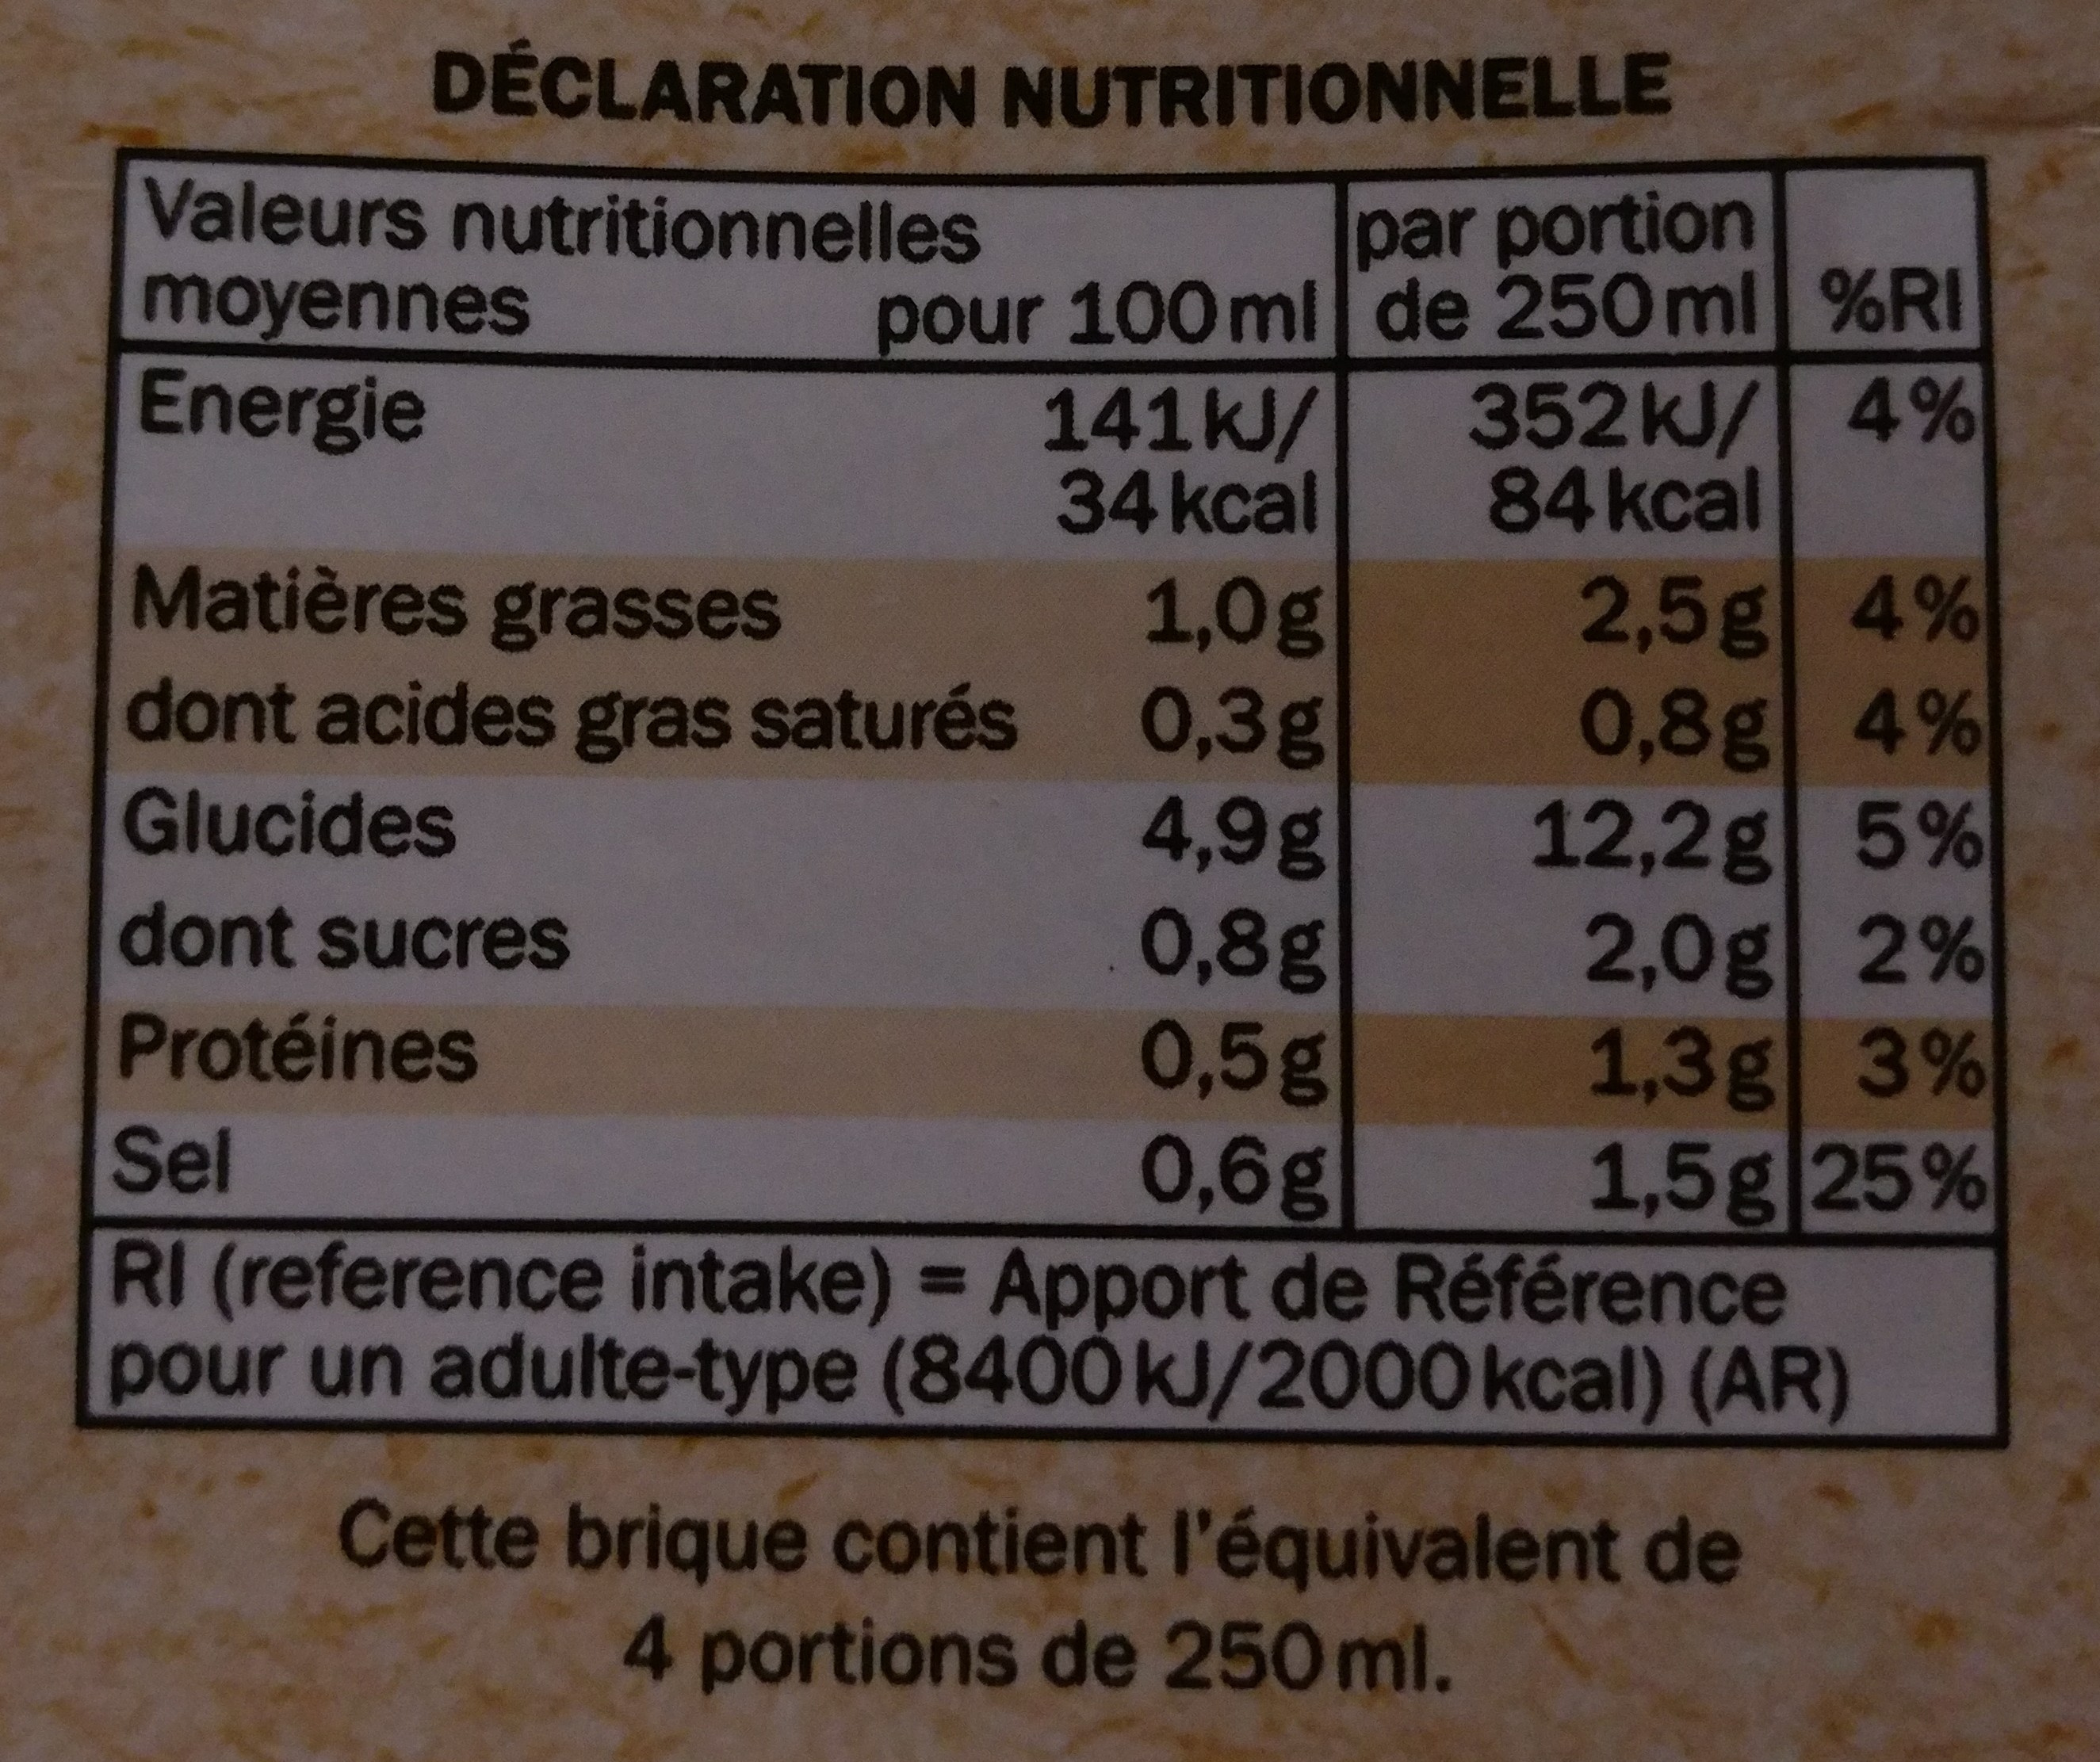column: (114, 365, 1018, 1224), (1357, 189, 1785, 1234), (1042, 383, 1331, 1220), (1813, 229, 1986, 1239)
table: (87, 128, 2018, 1239)
